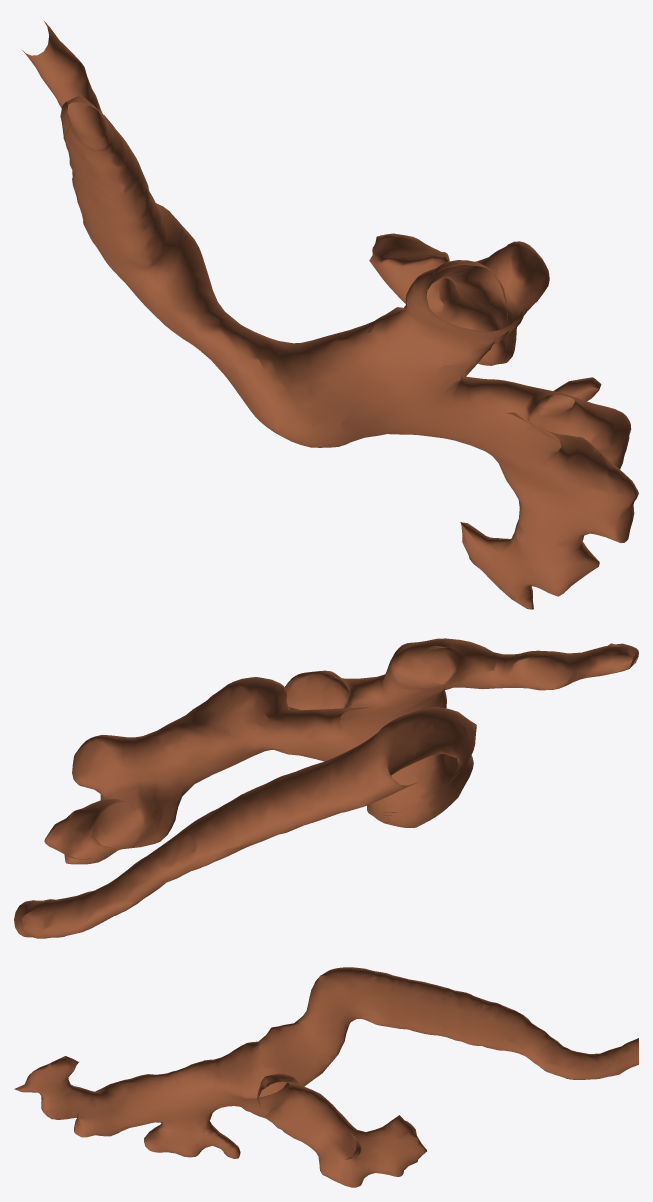
Rendered from kidney_vessels.glb.
3 renders of one model, top to bottom at view 1: azimuth 30°, elevation 25°; view 2: azimuth 150°, elevation 25°; view 3: azimuth 270°, elevation 25°, orthographic. The views are drawn at different scales.
Size of the model in its own units: 0.417 by 0.2195 by 1.
